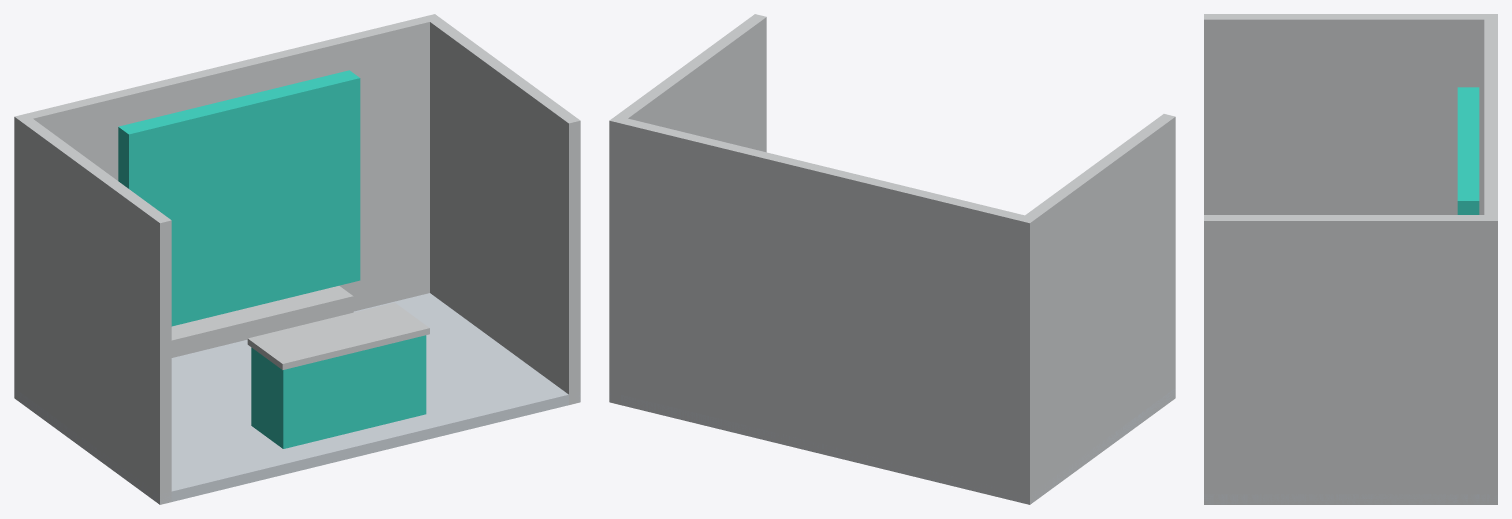
The picture shows the model from 3 angles, left to right: view 1: azimuth 30°, elevation 25°; view 2: azimuth 150°, elevation 25°; view 3: azimuth 270°, elevation 25°; orthographic projection.
Visible parts, largest first — view 1: Exhibition Booth Concept; view 2: Exhibition Booth Concept; view 3: Exhibition Booth Concept.
Part boxes in pixels (bbox=[...]): Exhibition Booth Concept: bbox=[14, 14, 580, 504]; Exhibition Booth Concept: bbox=[609, 14, 1175, 504]; Exhibition Booth Concept: bbox=[1204, 14, 1497, 504].
Bounding box in the file's own units: 5 × 3.2 × 3.
